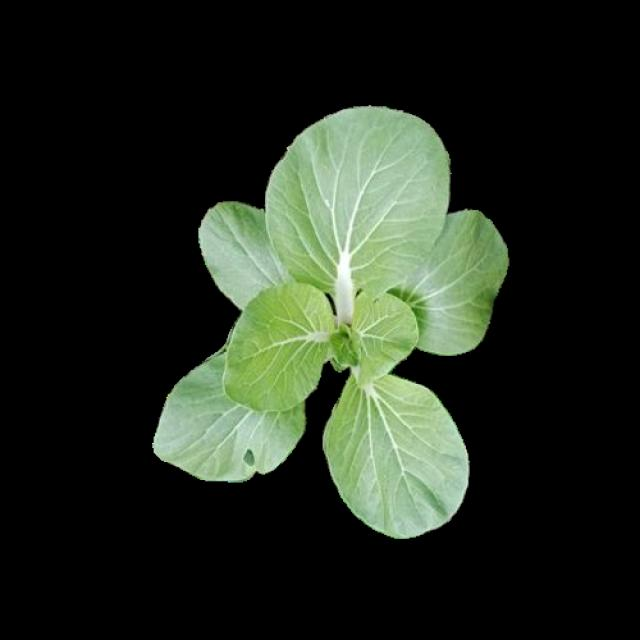mature: (153, 104, 510, 536)
unhealthy: (158, 356, 304, 481)
